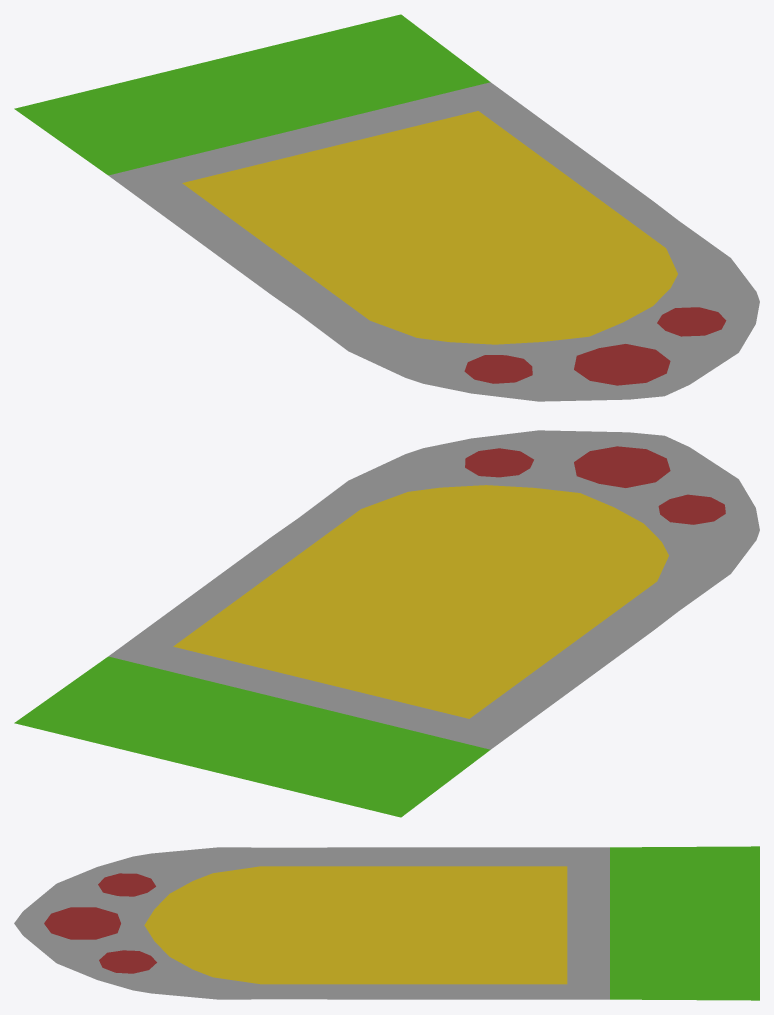
File: Cath_Windows_3.fbx
The picture shows the model from 3 angles, top to bottom: view 1: azimuth 30°, elevation 25°; view 2: azimuth 150°, elevation 25°; view 3: azimuth 270°, elevation 25°; orthographic projection. The views are drawn at different scales.
Parts seen in each view (by area): view 1: Cath_Windows_3; view 2: Cath_Windows_3; view 3: Cath_Windows_3.
Boxes of the visible parts, <box> form: Cath_Windows_3: <box>14,14,759,401</box>; Cath_Windows_3: <box>14,430,759,817</box>; Cath_Windows_3: <box>14,846,759,1000</box>.
Bounding box in the file's own units: 302 × 0.000776 × 618.
